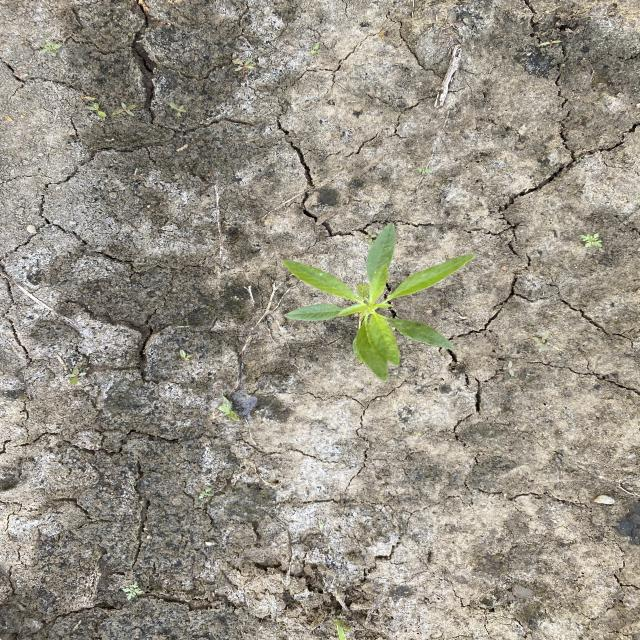Waterhemp: (280, 220, 478, 383)
